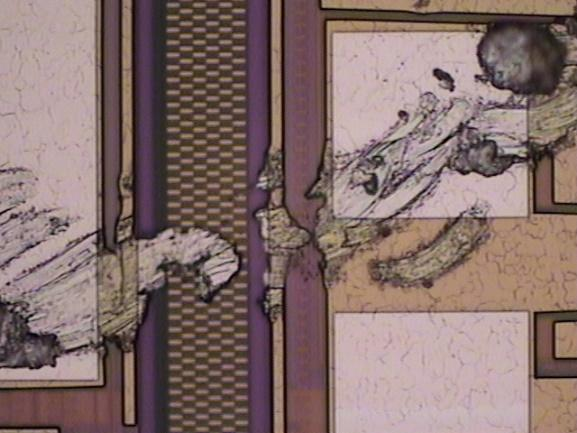SCRATCH: (1, 2, 577, 373)
